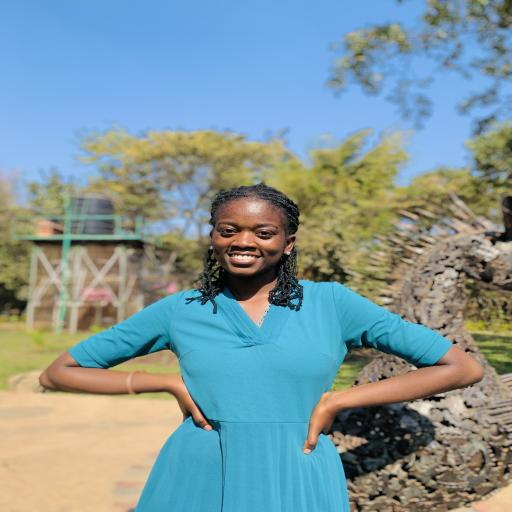LAURENE: (203, 177, 309, 310)
